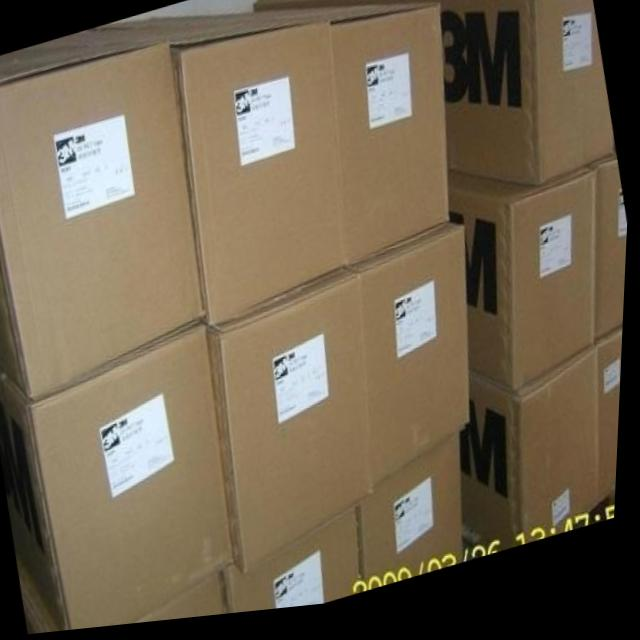box: (92, 19, 349, 332), (0, 32, 209, 403), (0, 325, 239, 633), (254, 0, 619, 198), (239, 12, 454, 273), (212, 277, 379, 577), (453, 179, 599, 405), (352, 233, 474, 497), (463, 358, 604, 566), (363, 445, 470, 600), (227, 512, 369, 619), (598, 173, 630, 356), (602, 343, 626, 517)
